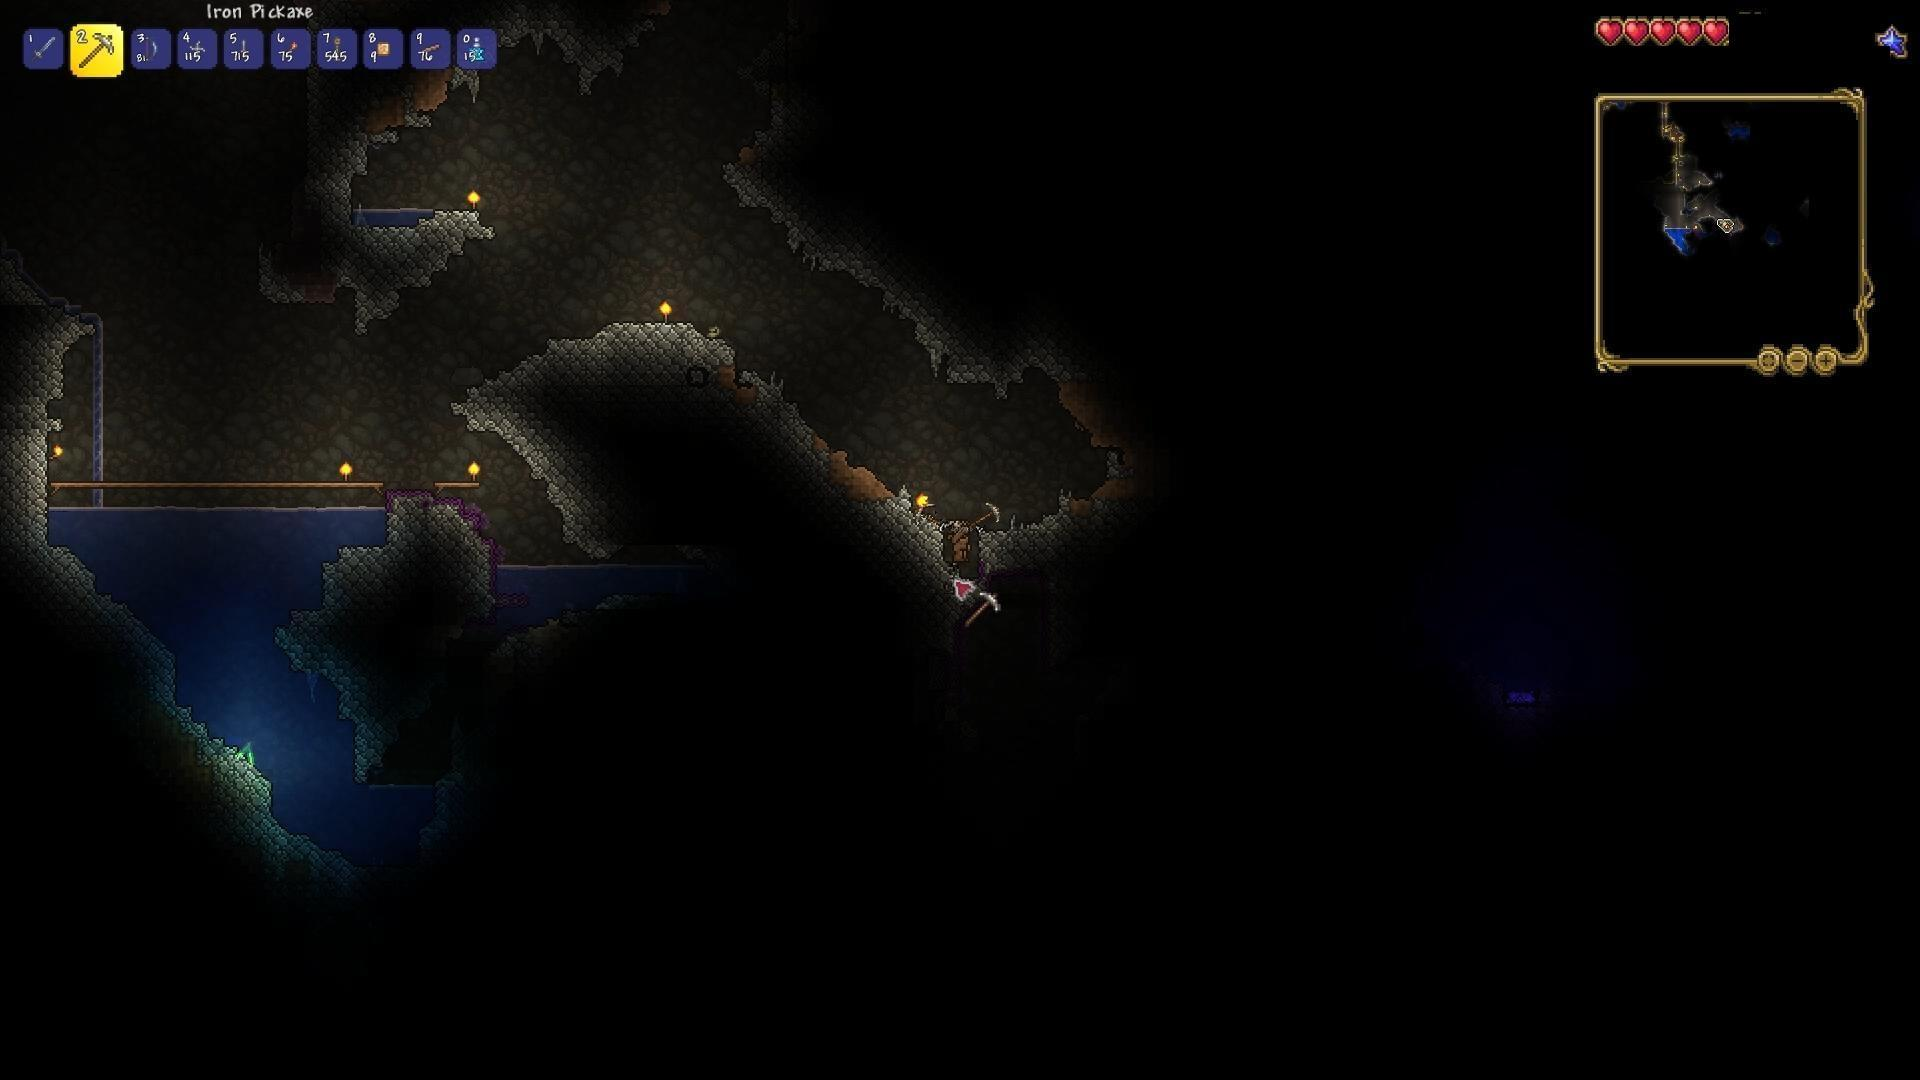heart: (1702, 17, 1733, 51), (1593, 16, 1626, 46), (1676, 15, 1704, 50), (1650, 16, 1676, 49), (1625, 15, 1651, 44)
liquid: (47, 498, 385, 521), (336, 194, 442, 227), (485, 551, 644, 571)
stone: (455, 336, 638, 517), (848, 261, 1063, 409), (285, 538, 425, 750), (727, 87, 857, 280), (851, 501, 1023, 641), (157, 698, 284, 860), (0, 284, 83, 501), (633, 320, 766, 452), (348, 232, 501, 336), (530, 0, 678, 87), (282, 120, 390, 202), (91, 589, 177, 690), (18, 497, 96, 607), (1038, 498, 1139, 575)
